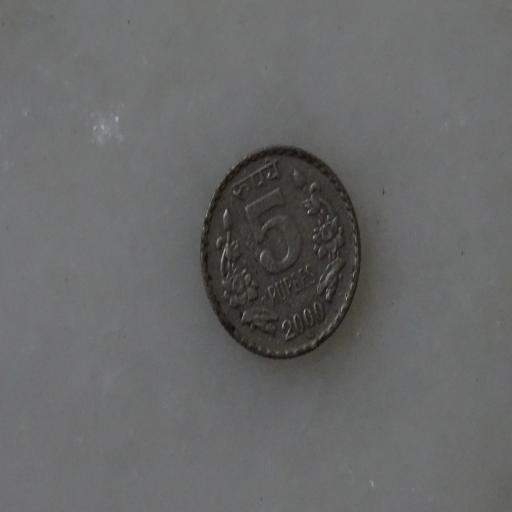rupee5: (194, 138, 363, 361)
